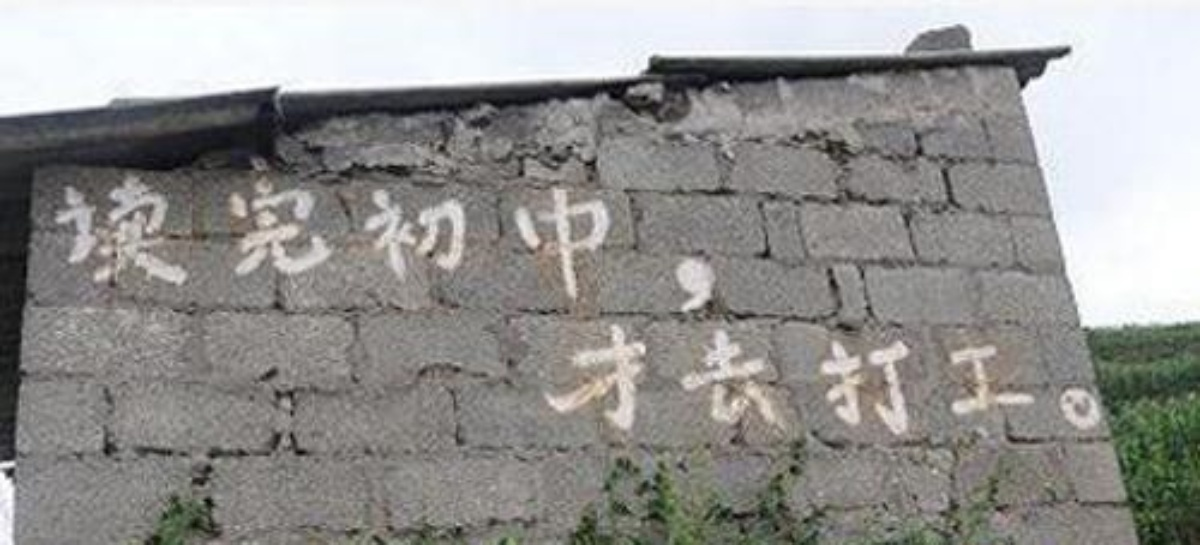text: (65, 166, 80, 315), (81, 166, 96, 315), (97, 166, 112, 315), (113, 166, 128, 315), (129, 166, 144, 315), (145, 166, 160, 315), (161, 166, 176, 315), (177, 166, 192, 315), (193, 166, 208, 315), (209, 166, 224, 315), (225, 166, 240, 315), (241, 166, 256, 315), (257, 166, 272, 315), (273, 166, 288, 315), (289, 166, 304, 315), (305, 166, 320, 315), (321, 166, 336, 315), (337, 166, 352, 315), (353, 166, 368, 315), (369, 166, 384, 315), (385, 166, 400, 315), (401, 166, 416, 315), (417, 166, 432, 315), (433, 166, 448, 315), (449, 166, 464, 315), (465, 166, 480, 315), (481, 166, 496, 315), (497, 166, 512, 315), (513, 166, 528, 315), (529, 166, 544, 315), (545, 166, 560, 315), (561, 166, 576, 315), (577, 166, 592, 315), (593, 166, 608, 315), (609, 166, 624, 315), (625, 166, 640, 315), (641, 166, 656, 315), (657, 166, 672, 315), (673, 166, 688, 315), (689, 166, 704, 315), (705, 166, 718, 315), (545, 320, 560, 437), (561, 320, 576, 437), (577, 320, 592, 437), (593, 320, 608, 437), (609, 320, 624, 437), (625, 320, 640, 437), (641, 320, 656, 437), (657, 320, 672, 437), (673, 320, 688, 437), (689, 320, 704, 437), (705, 320, 720, 437), (721, 320, 736, 437), (737, 320, 752, 437), (753, 320, 768, 437), (769, 320, 784, 437), (785, 320, 800, 437), (801, 320, 816, 437), (817, 320, 832, 437), (833, 320, 848, 437), (849, 320, 864, 437), (865, 320, 880, 437), (881, 320, 896, 437), (897, 320, 912, 437), (913, 320, 928, 437), (929, 320, 944, 437), (945, 320, 960, 437), (961, 320, 976, 437), (977, 320, 992, 437), (993, 320, 1008, 437), (1009, 320, 1024, 437), (1025, 320, 1040, 437), (1041, 320, 1056, 437), (1057, 320, 1072, 437), (1073, 320, 1088, 437), (1089, 320, 1104, 437), (56, 166, 64, 315), (538, 320, 544, 437), (1105, 320, 1107, 437)
